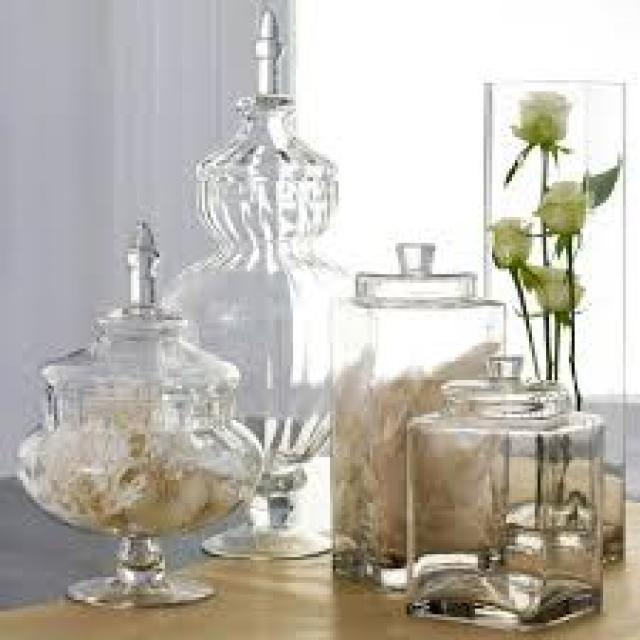organic waste: (498, 83, 572, 174), (515, 263, 583, 326), (483, 212, 532, 274), (529, 177, 580, 232), (577, 157, 623, 203)
